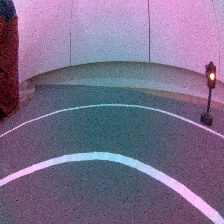amber: (198, 60, 220, 129)
